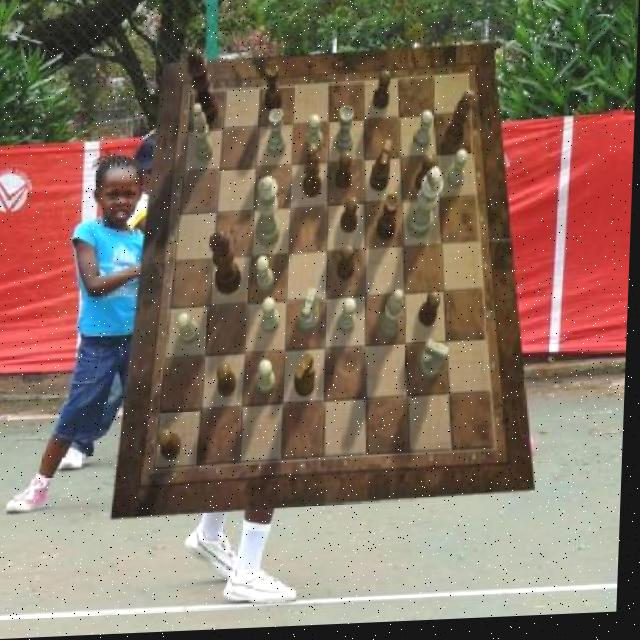bishop: (446, 94, 472, 151), (302, 147, 323, 202)
black-bishop: (186, 49, 221, 128)
black-king: (371, 143, 394, 196), (297, 356, 319, 401)
black-knight: (161, 430, 186, 463), (415, 158, 436, 197), (421, 295, 443, 332), (341, 199, 360, 238), (217, 364, 238, 399), (373, 74, 391, 114), (336, 154, 354, 192), (339, 249, 357, 285)
black-pawn: (211, 231, 246, 298)
black-queen: (378, 198, 400, 245), (265, 64, 284, 115)
black-rook: (192, 106, 217, 165), (381, 295, 407, 343)
white-bishop: (408, 172, 445, 244)
white-king: (421, 342, 451, 383), (298, 290, 321, 336)
white-knight: (448, 154, 469, 193), (178, 314, 201, 347), (338, 301, 358, 338), (258, 258, 277, 295), (416, 114, 434, 153), (306, 118, 324, 156), (265, 299, 283, 336), (260, 361, 278, 396)
white-pawn: (256, 177, 282, 249)
white-queen: (268, 110, 289, 158), (335, 110, 355, 157)
